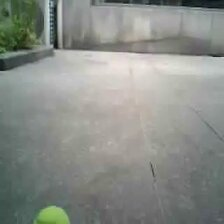tennis: (29, 205, 69, 224)
